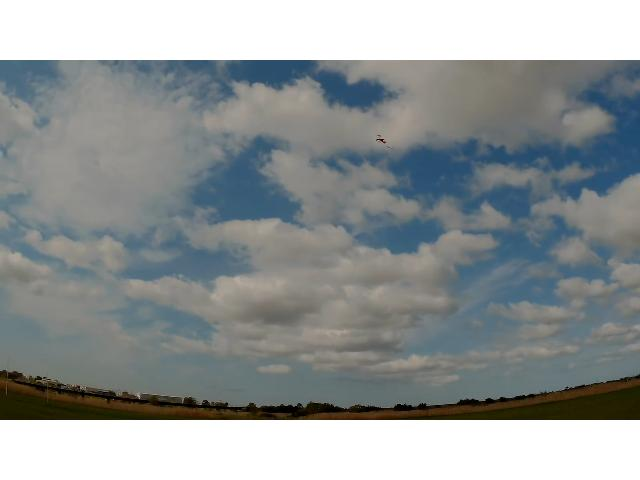Anti-Drone: (375, 135, 395, 149)
